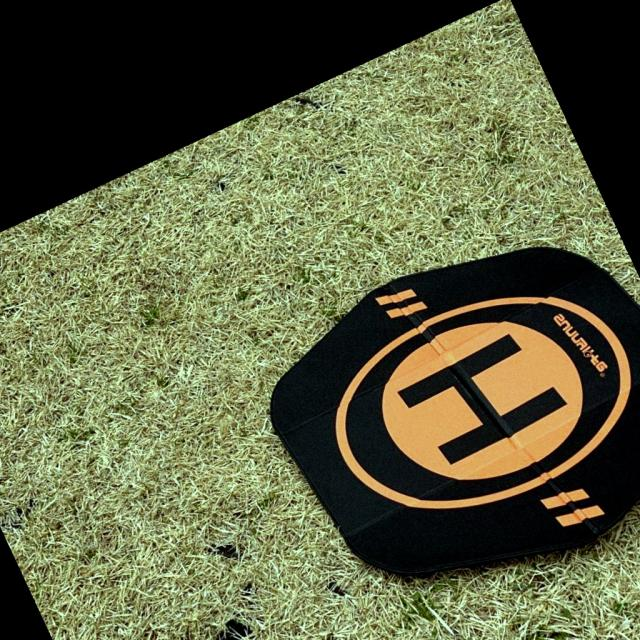helipad: (328, 293, 637, 513)
